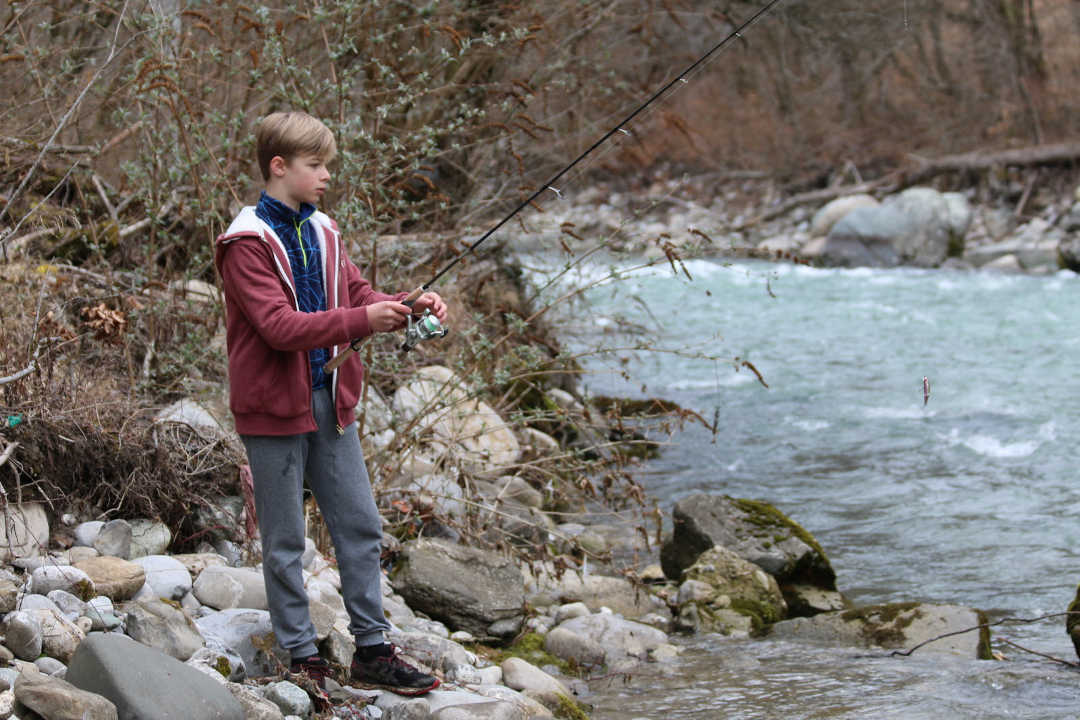without_mask: (277, 132, 331, 211)
